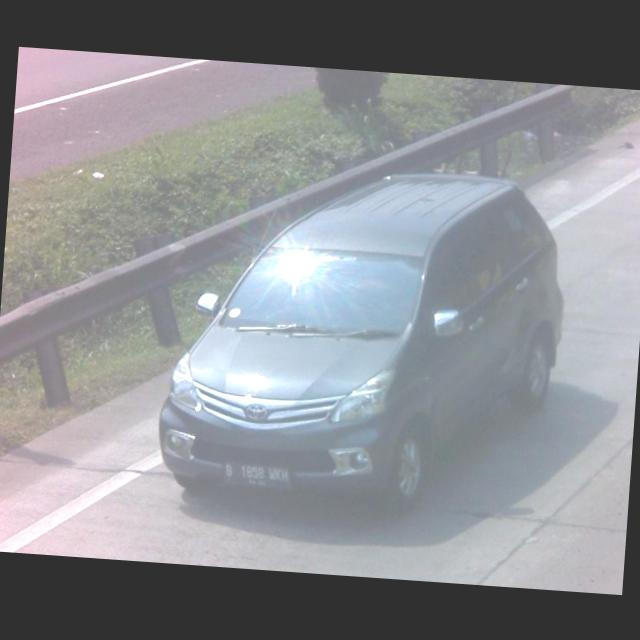plate: (217, 458, 293, 487)
